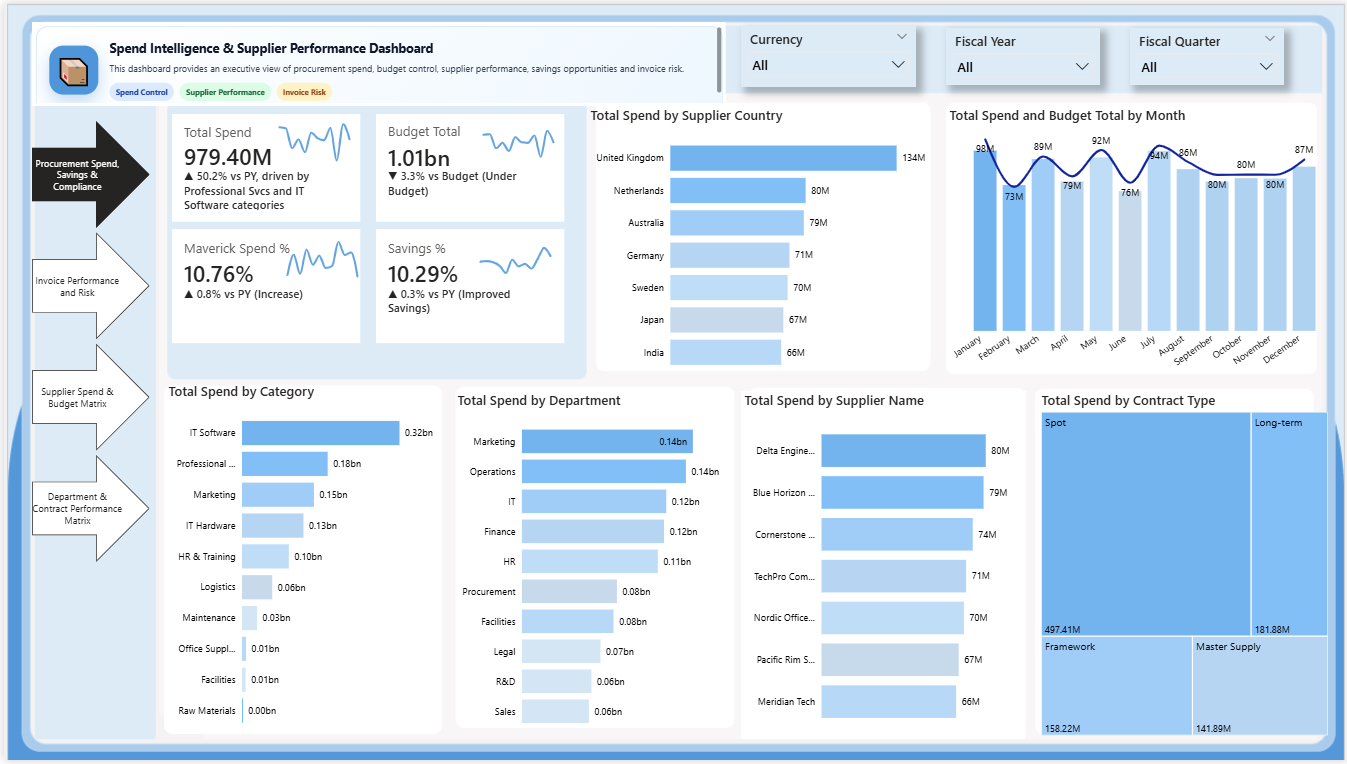

The page's visual inventory and layout, read from the dashboard file:
{"tool":"powerbi","page":{"name":"Procurement Spend, Savings & Compliance","canvas":[1920,1080],"ordinal":0},"visuals":[{"type":"cardVisual","fields":{"Data":["Dax Measure.Total Spend"]},"box":[240,157.1,268.6,154.3],"z":0},{"type":"slicer","fields":{"Values":["Fact_Procurement.Currency"]},"box":[1052.9,31.4,250,87.1],"z":1000},{"type":"cardVisual","fields":{"Data":["Dax Measure.Budget Total"]},"box":[531.4,157.1,268.6,154.3],"z":2000},{"type":"cardVisual","fields":{"Data":["Dax Measure.Savings %"]},"box":[531.4,321.4,268.6,162.9],"z":3000},{"type":"cardVisual","fields":{"Data":["Dax Measure.Maverick Spend %"]},"box":[240,321.4,268.6,162.9],"z":4000},{"type":"lineChart","fields":{"Y":["Dax Measure.Total Spend"],"Category":["Dim_Date.Date.Variation.Date Hierarchy.Year","Dim_Date.Date.Variation.Date Hierarchy.Quarter"]},"box":[378.6,157.1,130,87.1],"z":5000},{"type":"lineChart","fields":{"Y":["Dax Measure.Budget Total"],"Category":["Dim_Date.Date.Variation.Date Hierarchy.Year","Dim_Date.Date.Variation.Date Hierarchy.Quarter"]},"box":[670,157.1,130,77.1],"z":6000},{"type":"lineChart","fields":{"Y":["Dax Measure.Maverick Spend %"],"Category":["Dim_Date.Date.Variation.Date Hierarchy.Year","Dim_Date.Date.Variation.Date Hierarchy.Quarter"]},"box":[390,311.4,130,87.1],"z":7000},{"type":"lineChart","fields":{"Y":["Dax Measure.Savings %"],"Category":["Dim_Date.Date.Variation.Date Hierarchy.Year","Dim_Date.Date.Variation.Date Hierarchy.Quarter"]},"box":[665.7,321.4,130,72.9],"z":8000},{"type":"lineClusteredColumnComboChart","fields":{"Category":["Dim_Date.Date.Variation.Date Hierarchy.Month","Dim_Date.Date.Variation.Date Hierarchy.Day"],"Y":["Dax Measure.Total Spend"],"Y2":["Dax Measure.Budget Total"]},"box":[1345.7,145.7,550,394.3],"z":9000},{"type":"clusteredBarChart","fields":{"Category":["Dim_Item.Category","Dim_Contract.Contract Type"],"Y":["Dax Measure.Total Spend"]},"box":[230,540,388.6,510],"z":10000},{"type":"clusteredBarChart","fields":{"Category":["Dim_Department.Department"],"Y":["Dax Measure.Total Spend"]},"box":[642.9,552.9,388.6,497.1],"z":11000},{"type":"clusteredBarChart","fields":{"Category":["Dim_Supplier.Supplier Name"],"Y":["Dax Measure.Total Spend"]},"box":[1052.9,552.9,407.1,497.1],"z":12000},{"type":"clusteredBarChart","fields":{"Category":["Dim_Supplier.Supplier Country","Dim_Contract.Contract Type"],"Y":["Dax Measure.Total Spend"]},"box":[832.9,145.7,500,394.3],"z":13000},{"type":"treemap","fields":{"Group":["Dim_Contract.Contract Type"],"Values":["Dax Measure.Total Spend"]},"box":[1477,552.2,419,496.8],"z":14000},{"type":"slicer","fields":{"Values":["Dim_Date.Fiscal Year"]},"box":[1345.7,34.3,220,81.4],"z":15000},{"type":"slicer","fields":{"Values":["Dim_Date.Fiscal Quarter"]},"box":[1608.6,34.3,220,81.4],"z":16000},{"type":"pageNavigator","box":[40,167.1,168.6,632.9],"z":17000},{"type":"bookmarkNavigator","box":[0,0,600,50],"z":18000},{"type":"htmlContent443BE3AD55E043BF878BED274D3A6855","fields":{"content":["Dax Measure.Dashboard Description HTML"]},"box":[40,25.7,991.4,120],"z":19000}]}

Visuals, with their boxes in screenshot pixels (x1, y1, x2, y2), scaled from the page's 1920x1080 canvas onto the 1347x764 screenshot:
cardVisual - Dax Measure.Total Spend: {"left": 168, "top": 111, "right": 357, "bottom": 220}
slicer - Fact_Procurement.Currency: {"left": 739, "top": 22, "right": 914, "bottom": 84}
cardVisual - Dax Measure.Budget Total: {"left": 373, "top": 111, "right": 561, "bottom": 220}
cardVisual - Dax Measure.Savings %: {"left": 373, "top": 227, "right": 561, "bottom": 343}
cardVisual - Dax Measure.Maverick Spend %: {"left": 168, "top": 227, "right": 357, "bottom": 343}
lineChart - Dax Measure.Total Spend x Dim_Date.Date.Variation.Date Hierarchy.Year: {"left": 266, "top": 111, "right": 357, "bottom": 173}
lineChart - Dax Measure.Budget Total x Dim_Date.Date.Variation.Date Hierarchy.Year: {"left": 470, "top": 111, "right": 561, "bottom": 166}
lineChart - Dax Measure.Maverick Spend % x Dim_Date.Date.Variation.Date Hierarchy.Year: {"left": 274, "top": 220, "right": 365, "bottom": 282}
lineChart - Dax Measure.Savings % x Dim_Date.Date.Variation.Date Hierarchy.Year: {"left": 467, "top": 227, "right": 558, "bottom": 279}
lineClusteredColumnComboChart - Dim_Date.Date.Variation.Date Hierarchy.Month x Dim_Date.Date.Variation.Date Hierarchy.Day: {"left": 944, "top": 103, "right": 1330, "bottom": 382}
clusteredBarChart - Dim_Item.Category x Dim_Contract.Contract Type: {"left": 161, "top": 382, "right": 434, "bottom": 743}
clusteredBarChart - Dim_Department.Department x Dax Measure.Total Spend: {"left": 451, "top": 391, "right": 724, "bottom": 743}
clusteredBarChart - Dim_Supplier.Supplier Name x Dax Measure.Total Spend: {"left": 739, "top": 391, "right": 1024, "bottom": 743}
clusteredBarChart - Dim_Supplier.Supplier Country x Dim_Contract.Contract Type: {"left": 584, "top": 103, "right": 935, "bottom": 382}
treemap - Dim_Contract.Contract Type x Dax Measure.Total Spend: {"left": 1036, "top": 391, "right": 1330, "bottom": 742}
slicer - Dim_Date.Fiscal Year: {"left": 944, "top": 24, "right": 1098, "bottom": 82}
slicer - Dim_Date.Fiscal Quarter: {"left": 1129, "top": 24, "right": 1283, "bottom": 82}
pageNavigator: {"left": 28, "top": 118, "right": 146, "bottom": 566}
bookmarkNavigator: {"left": 0, "top": 0, "right": 421, "bottom": 35}
htmlContent443BE3AD55E043BF878BED274D3A6855 - Dax Measure.Dashboard Description HTML: {"left": 28, "top": 18, "right": 724, "bottom": 103}
